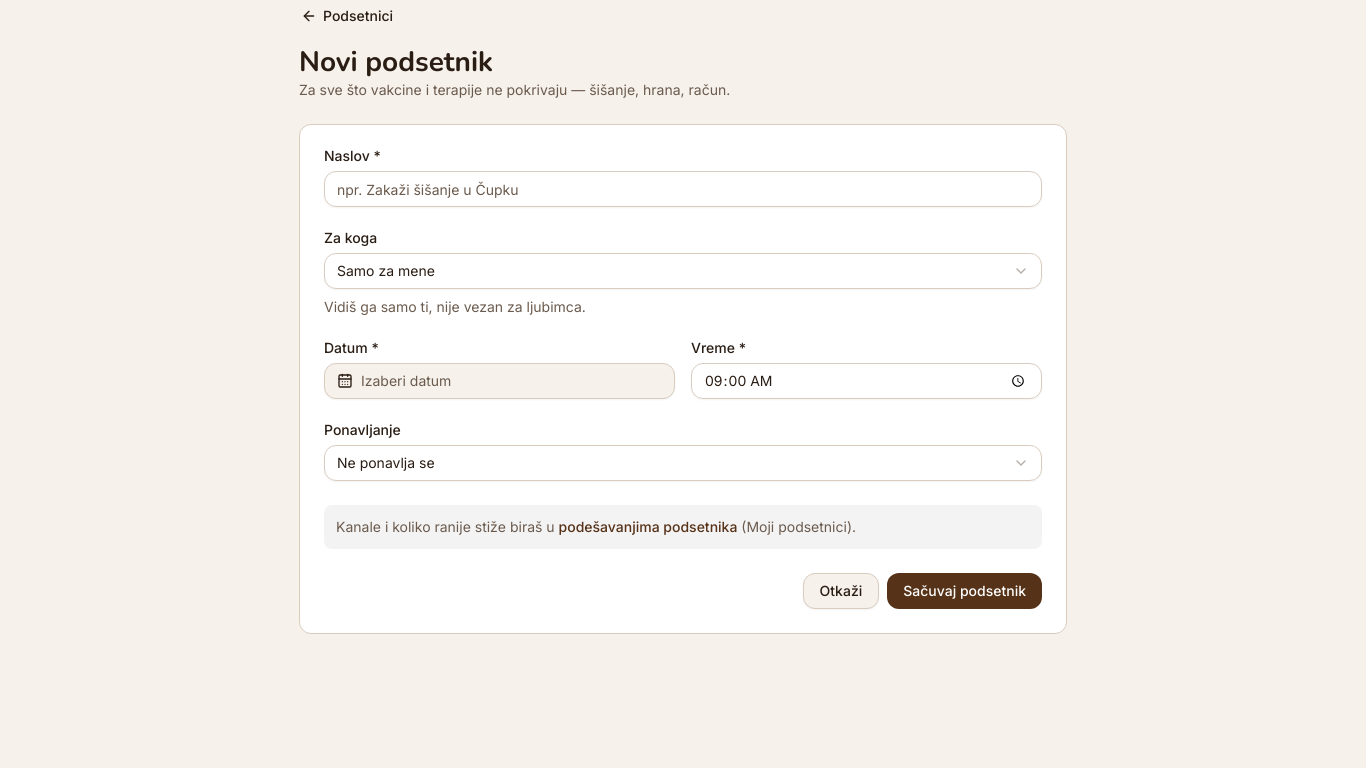
Test case: S11 — inline field errors › server field codes show inline: in_past, too_long, pet_memorial
Type "Kupi hranu" into the field labelled "Naslov *" at (683, 189), box x1=324 y1=171 x2=1042 y2=207
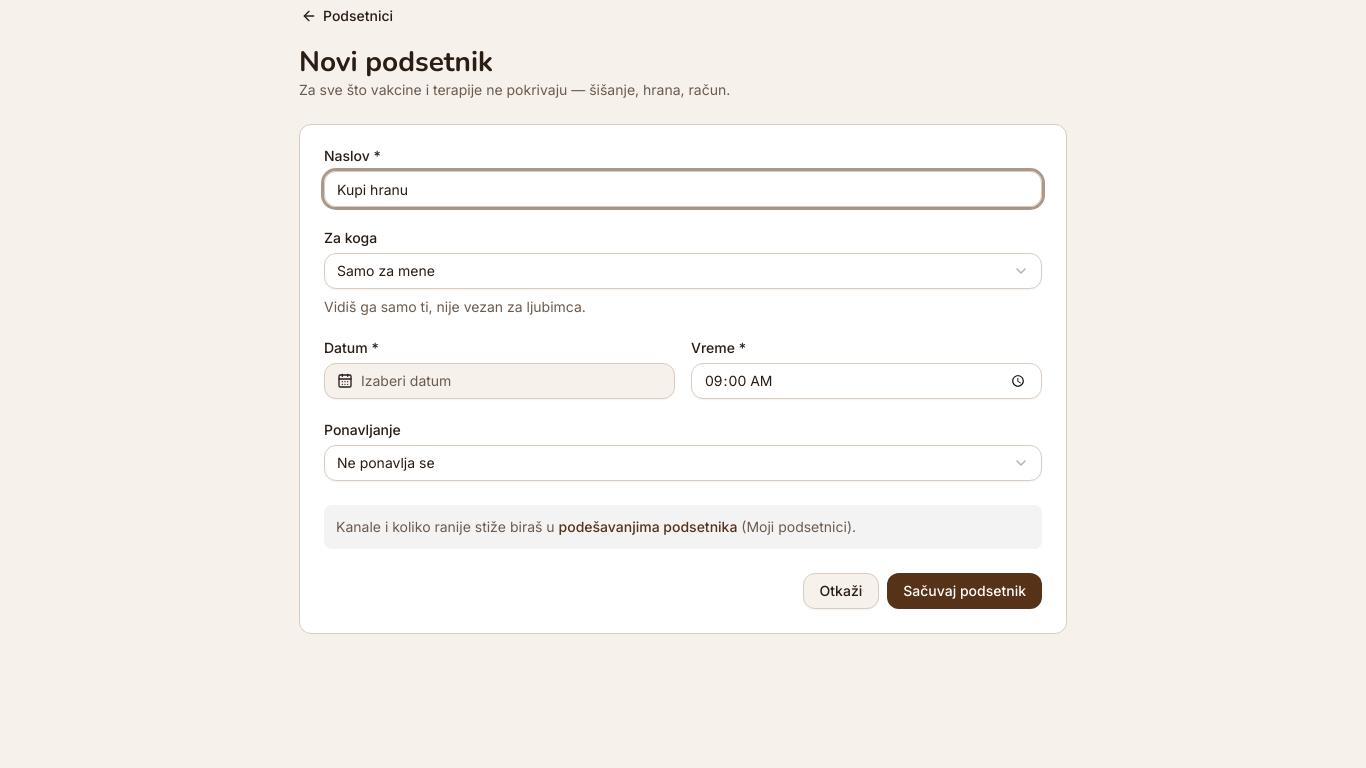
Click the button "Izaberi datum" at (406, 380), box x1=324 y1=363 x2=675 y2=399
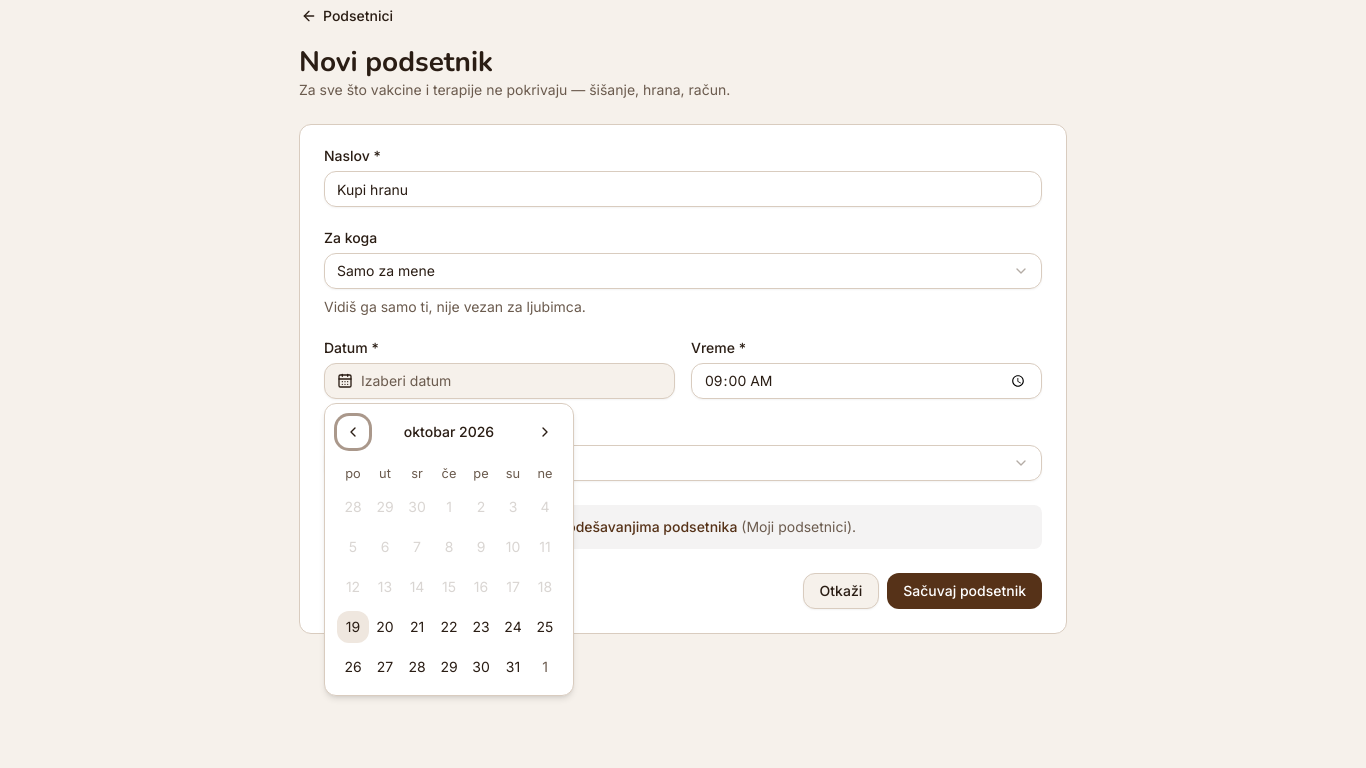
Click the button "26" at (353, 667), box x1=337 y1=651 x2=369 y2=683
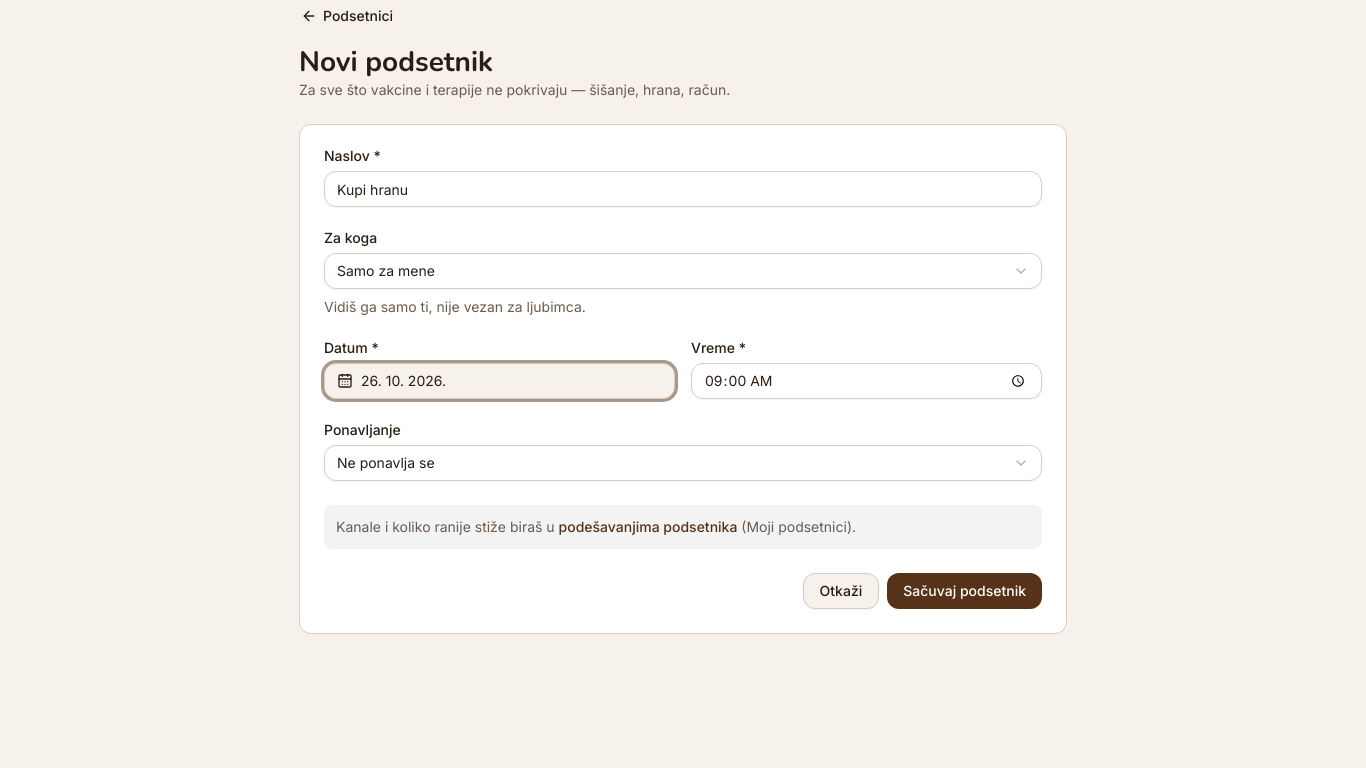
Click the button "Sačuvaj podsetnik" at (965, 591), box x1=887 y1=573 x2=1042 y2=609
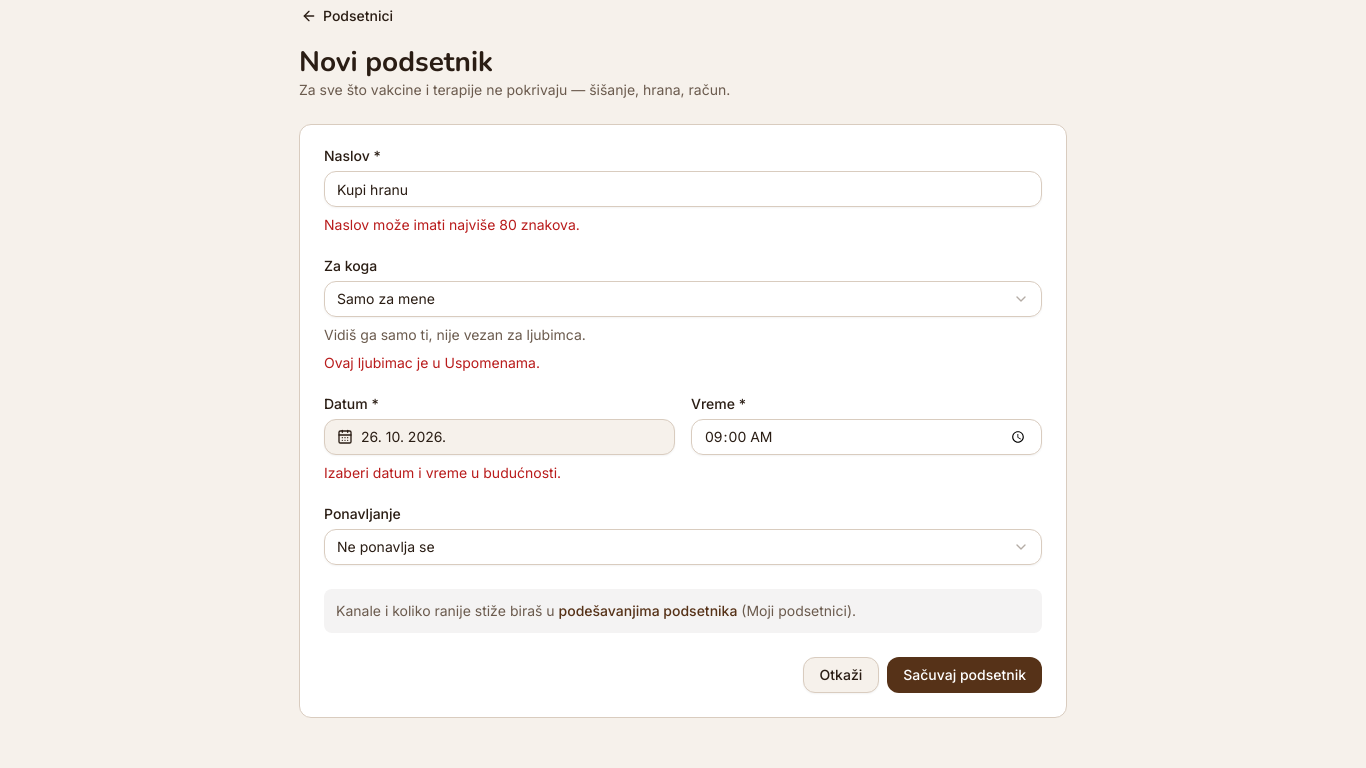
Expected: the text "Izaberi datum i vreme u budućnosti." is shown, x1=324 y1=464 x2=561 y2=481
Expected: the text "Naslov može imati najviše 80 znakova." is shown, x1=324 y1=216 x2=580 y2=233
Expected: the text "Ovaj ljubimac je u Uspomenama." is shown, x1=324 y1=354 x2=540 y2=371
